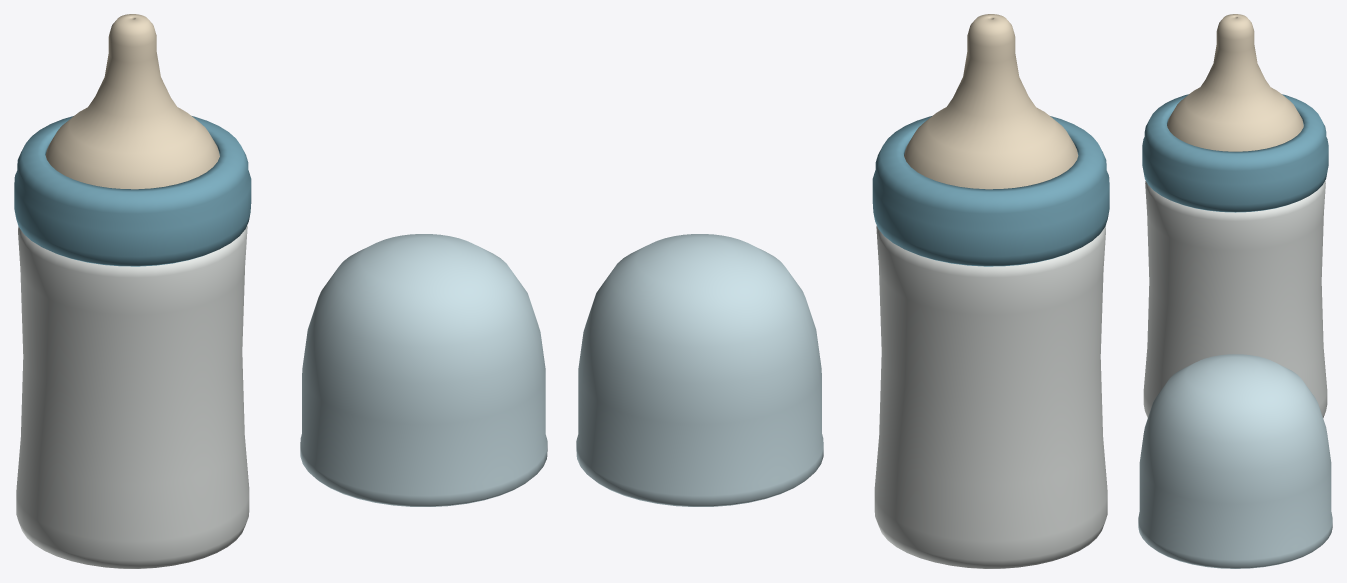
3 renders of one model, left to right at view 1: azimuth 30°, elevation 25°; view 2: azimuth 150°, elevation 25°; view 3: azimuth 270°, elevation 25°, orthographic. The views are drawn at different scales.
Visible parts, largest first — view 1: Bottle - hollow wall neck and closed bottom, Protective hood - closed dome open underside, Collar - open annular retainer, Nipple - hollow shoulder flange and open tip; view 2: Bottle - hollow wall neck and closed bottom, Protective hood - closed dome open underside, Collar - open annular retainer, Nipple - hollow shoulder flange and open tip; view 3: Protective hood - closed dome open underside, Bottle - hollow wall neck and closed bottom, Collar - open annular retainer, Nipple - hollow shoulder flange and open tip.
Part boxes in pixels (x1,y1,x2,y2): Bottle - hollow wall neck and closed bottom: (16,225,249,568); Protective hood - closed dome open underside: (300,234,547,506); Collar - open annular retainer: (14,116,251,266); Nipple - hollow shoulder flange and open tip: (45,14,219,189); Bottle - hollow wall neck and closed bottom: (874,225,1107,568); Protective hood - closed dome open underside: (576,234,823,506); Collar - open annular retainer: (872,116,1109,266); Nipple - hollow shoulder flange and open tip: (904,14,1078,189); Protective hood - closed dome open underside: (1138,354,1332,568); Bottle - hollow wall neck and closed bottom: (1143,181,1327,417); Collar - open annular retainer: (1142,94,1328,212); Nipple - hollow shoulder flange and open tip: (1167,14,1303,151).
Bounding box in the file's own units: 0.1635 × 0.1588 × 0.07.
